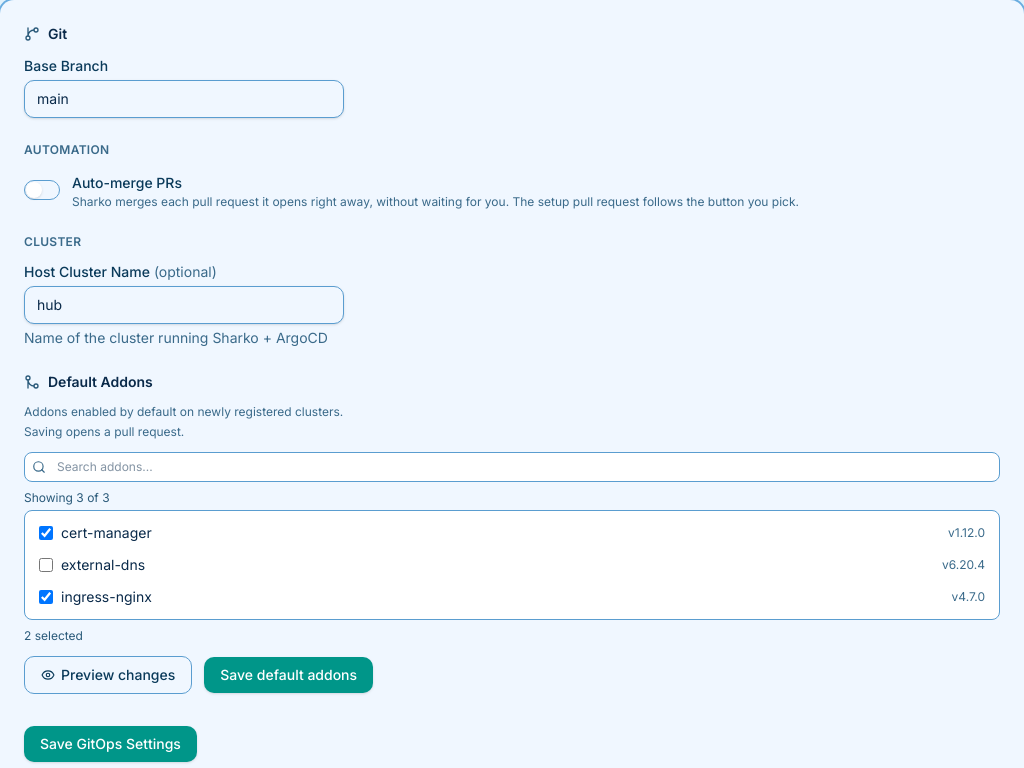
Test: GitOpsSection — Default Addons (V3-P2.2) › filters the table as you type
Type "nginx" into the field with placeholder "Search addons...".
click(512, 467); type("nginx")  # box [24,452,1000,482]
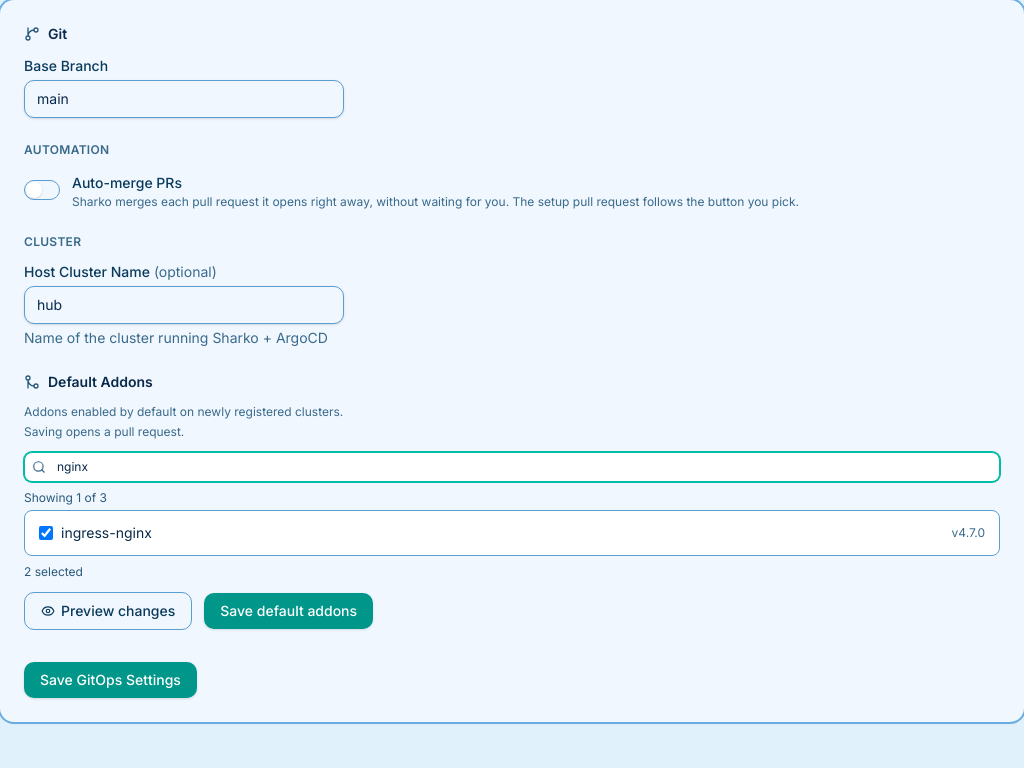
Now the text "Showing 1 of 3" is shown, box [24,490,107,505]
Now the text "cert-manager" is gone
Now the text "external-dns" is gone
